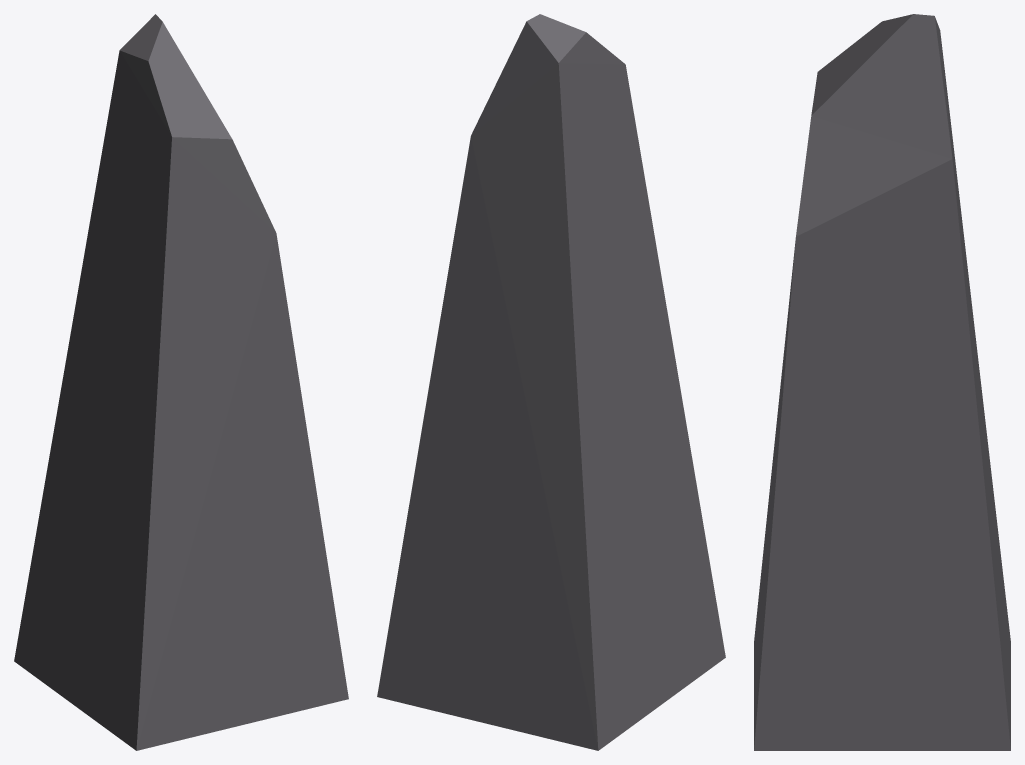
Rendered from Rock_Sharp_s_07.fbx.
The picture shows the model from 3 angles, left to right: view 1: azimuth 30°, elevation 25°; view 2: azimuth 150°, elevation 25°; view 3: azimuth 270°, elevation 25°; orthographic projection. The views are drawn at different scales.
Parts seen in each view (by area): view 1: Rock_Sharp_s_07; view 2: Rock_Sharp_s_07; view 3: Rock_Sharp_s_07.
Boxes of the visible parts, x1,y1,x2,y2 form: Rock_Sharp_s_07: (14, 14, 348, 750); Rock_Sharp_s_07: (377, 14, 725, 750); Rock_Sharp_s_07: (754, 14, 1010, 750).
Bounding box in the file's own units: 20.78 × 60.63 × 20.75.
